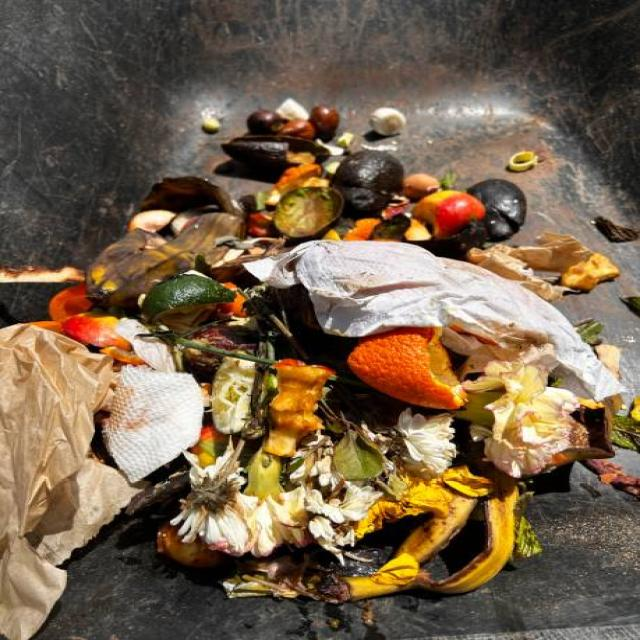paper: (128, 268, 276, 342), (364, 319, 491, 399), (482, 170, 569, 256), (341, 147, 414, 244), (228, 130, 308, 194)
